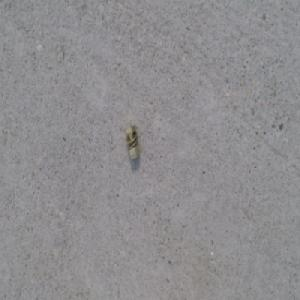BoltNutSet: (125, 125, 140, 159)
